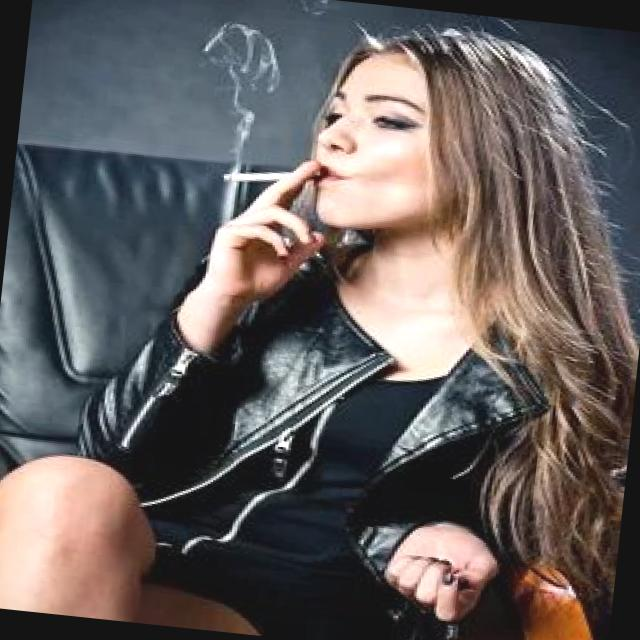smoke: (217, 153, 310, 192)
